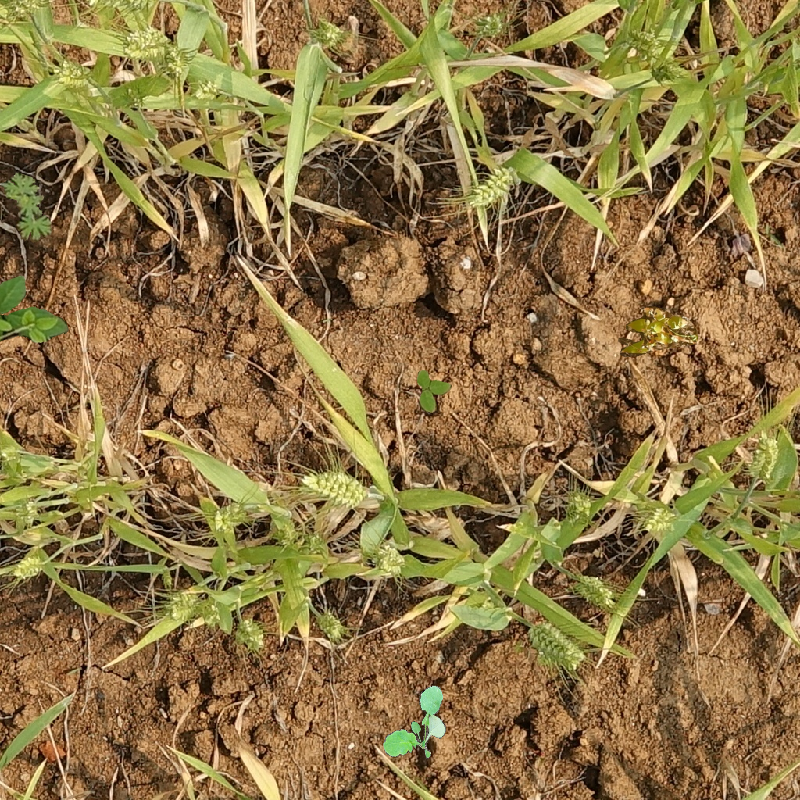spikelet: (527, 621, 585, 670), (300, 467, 369, 508), (465, 164, 519, 210), (121, 24, 176, 66), (51, 56, 101, 96), (746, 430, 781, 483), (628, 26, 673, 67), (209, 499, 251, 533), (575, 573, 616, 607), (371, 539, 406, 577), (563, 489, 595, 528), (234, 616, 267, 652), (308, 17, 345, 49), (160, 41, 190, 80), (315, 607, 347, 642), (11, 550, 47, 581), (166, 587, 199, 620), (643, 503, 677, 535), (473, 10, 508, 40), (1, 1, 43, 25), (13, 496, 40, 527)
weed: (374, 684, 454, 766), (1, 266, 71, 357), (1, 167, 67, 250), (618, 306, 698, 357), (417, 370, 452, 413)
